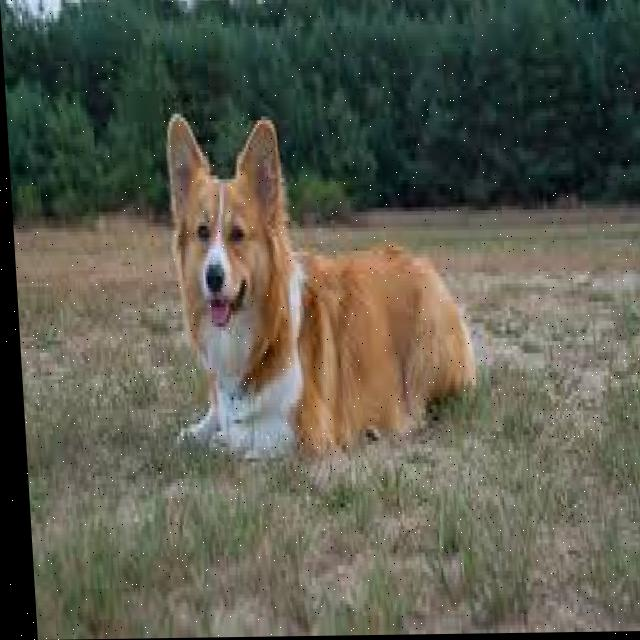CORGI: (125, 80, 486, 499)
